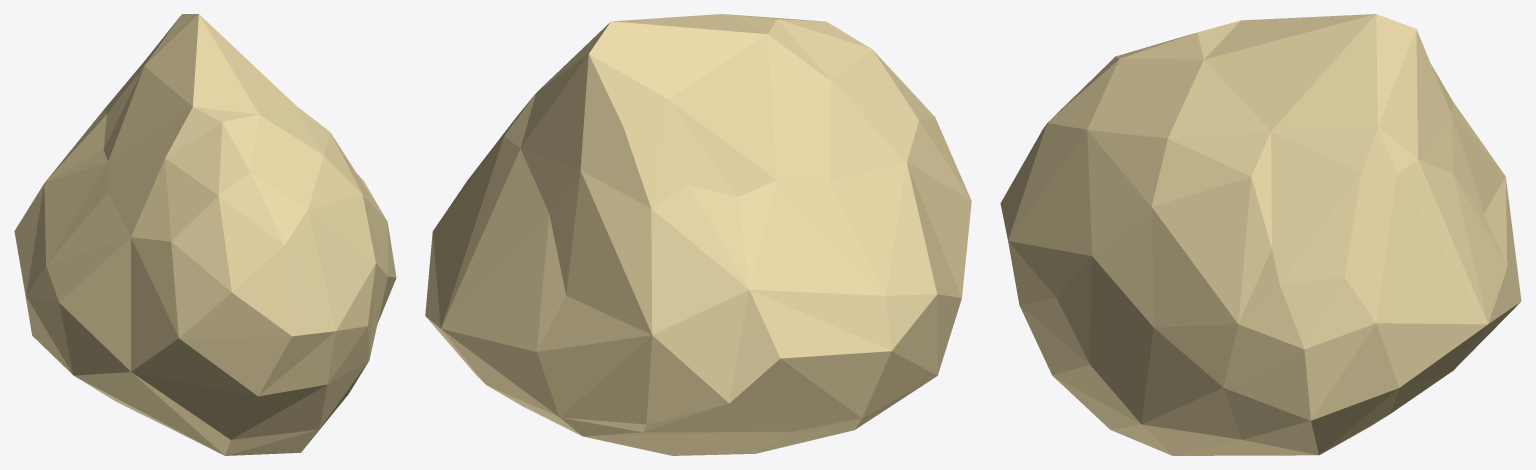
The model's file is Rock (66).fbx.
The picture shows the model from 3 angles, left to right: view 1: azimuth 30°, elevation 25°; view 2: azimuth 150°, elevation 25°; view 3: azimuth 270°, elevation 25°; orthographic projection. The views are drawn at different scales.
Visible parts, largest first — view 1: Asteroid65; view 2: Asteroid65; view 3: Asteroid65.
Part boxes in pixels (left/top/right/bottom): Asteroid65: left=14, top=14, right=396, bottom=455; Asteroid65: left=425, top=14, right=971, bottom=455; Asteroid65: left=1000, top=14, right=1521, bottom=455.
Bounding box in the file's own units: 59.16 × 60.15 × 63.82.
